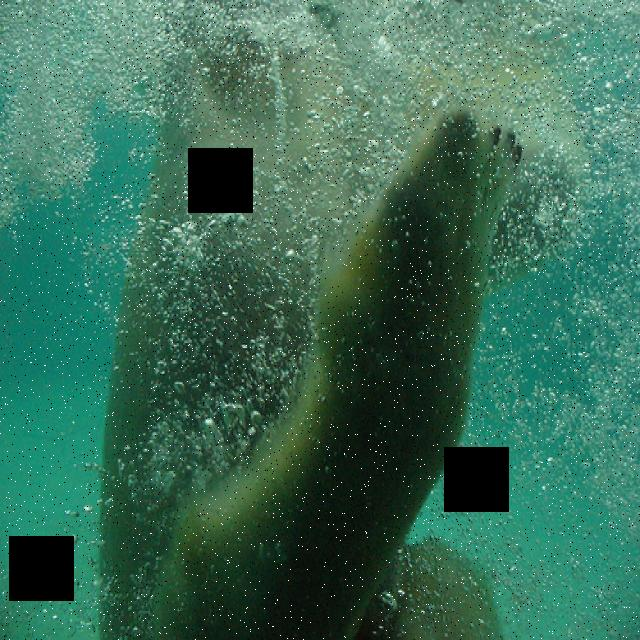Bear: (100, 15, 577, 640)
